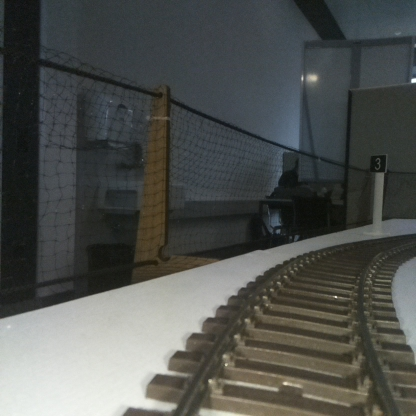black-info-3: (369, 153, 387, 234)
